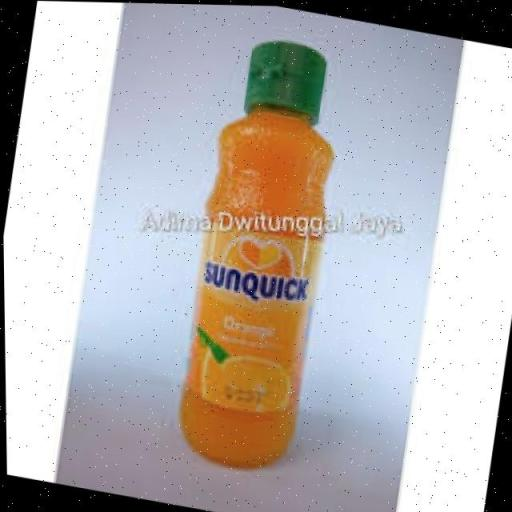plastic: (162, 26, 359, 480)
